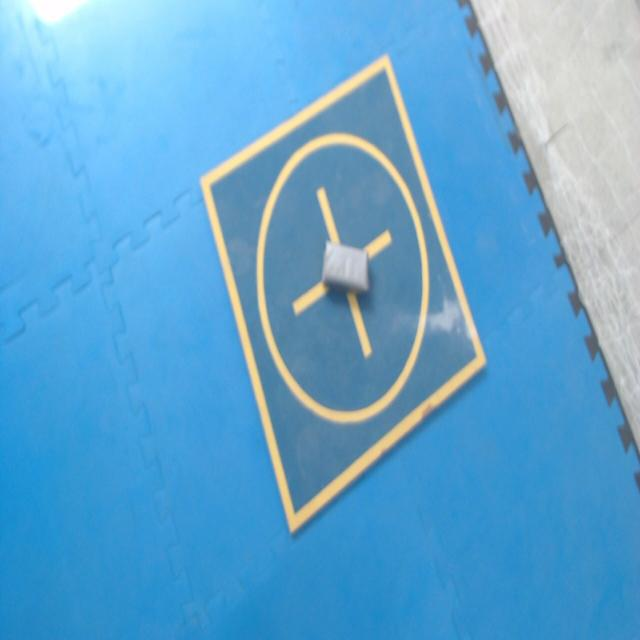lipo: (322, 241, 368, 292)
